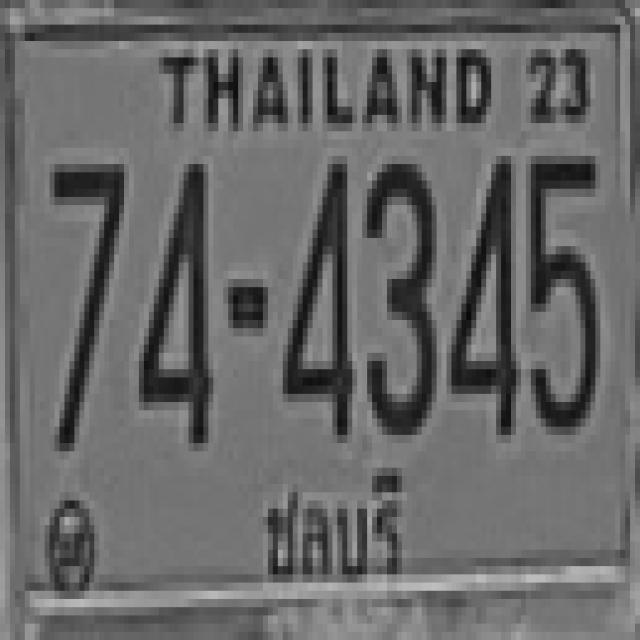3: (362, 160, 432, 431)
4: (134, 156, 208, 443), (280, 156, 350, 435), (446, 152, 516, 431)
5: (526, 148, 595, 426)
7: (50, 156, 124, 443)
Chonburi: (261, 468, 411, 586)
